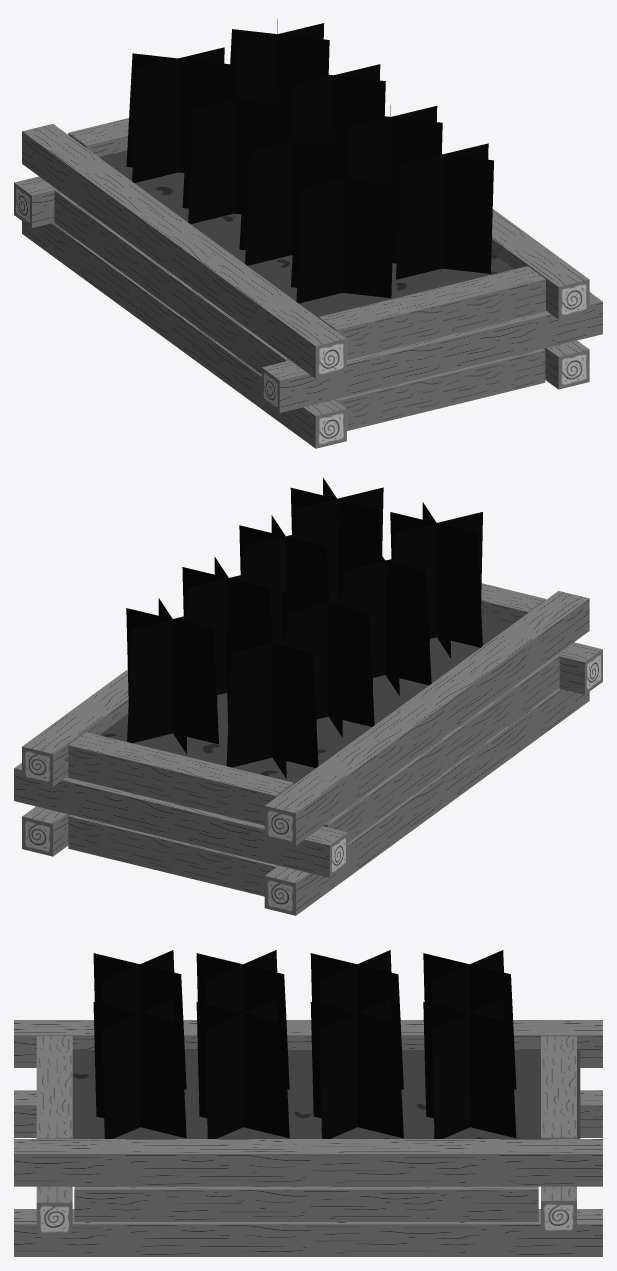
File: Asset_GardenPlot.fbx
3 views of the same model, one above another, from view 1: azimuth 30°, elevation 25°; view 2: azimuth 150°, elevation 25°; view 3: azimuth 270°, elevation 25° (orthographic).
Visible parts, largest first — view 1: polySurface75, polySurface77; view 2: polySurface75, polySurface77; view 3: polySurface75, polySurface77.
Part boxes in pixels (x1,y1,x2,y2): polySurface75: [14, 118, 602, 448]; polySurface77: [126, 19, 493, 303]; polySurface75: [14, 559, 602, 915]; polySurface77: [126, 477, 482, 778]; polySurface75: [14, 1020, 602, 1256]; polySurface77: [93, 950, 516, 1138].
Bounding box in the file's own units: 259 × 407 × 155.
